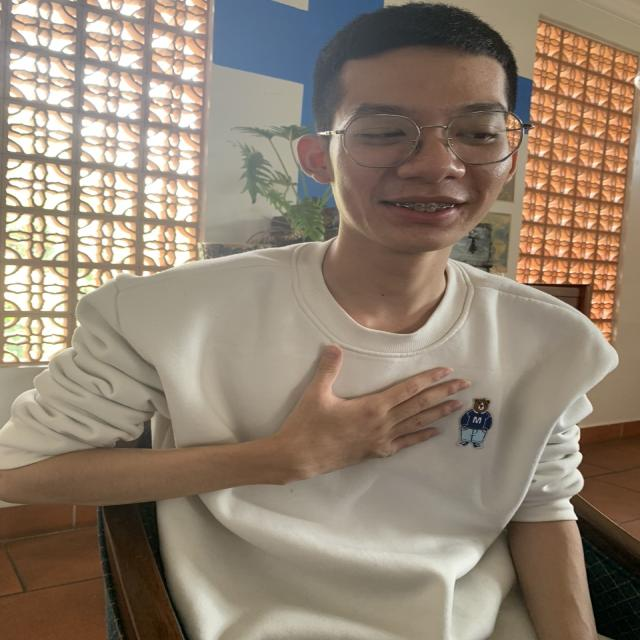please: (272, 325, 474, 505)
